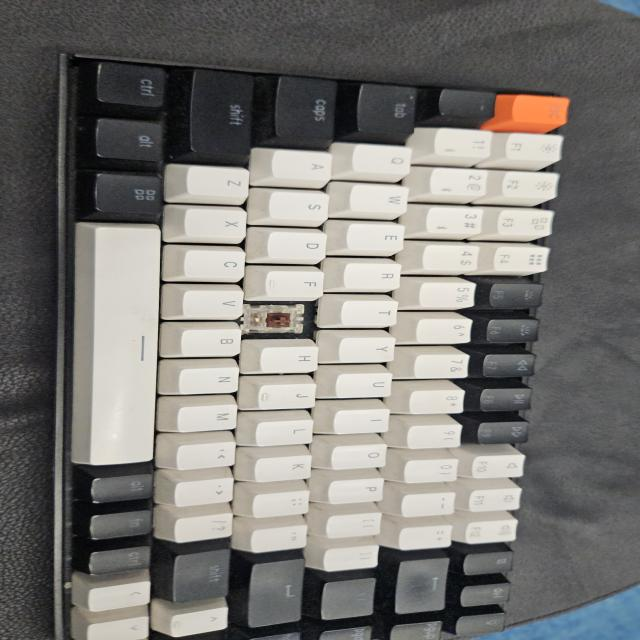C: (256, 307, 310, 336)
